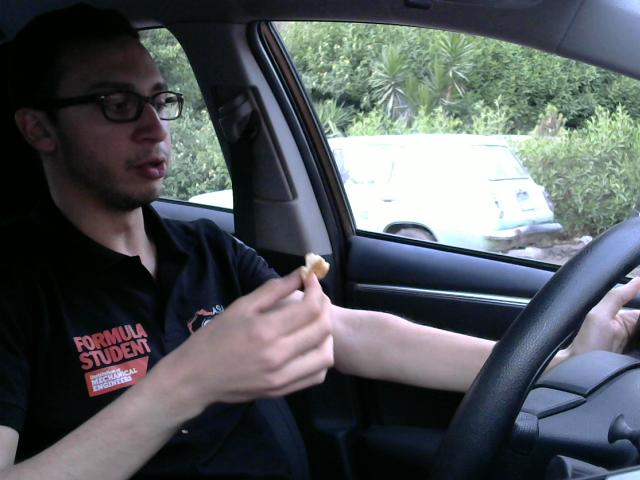Eating: (292, 244, 338, 288)
